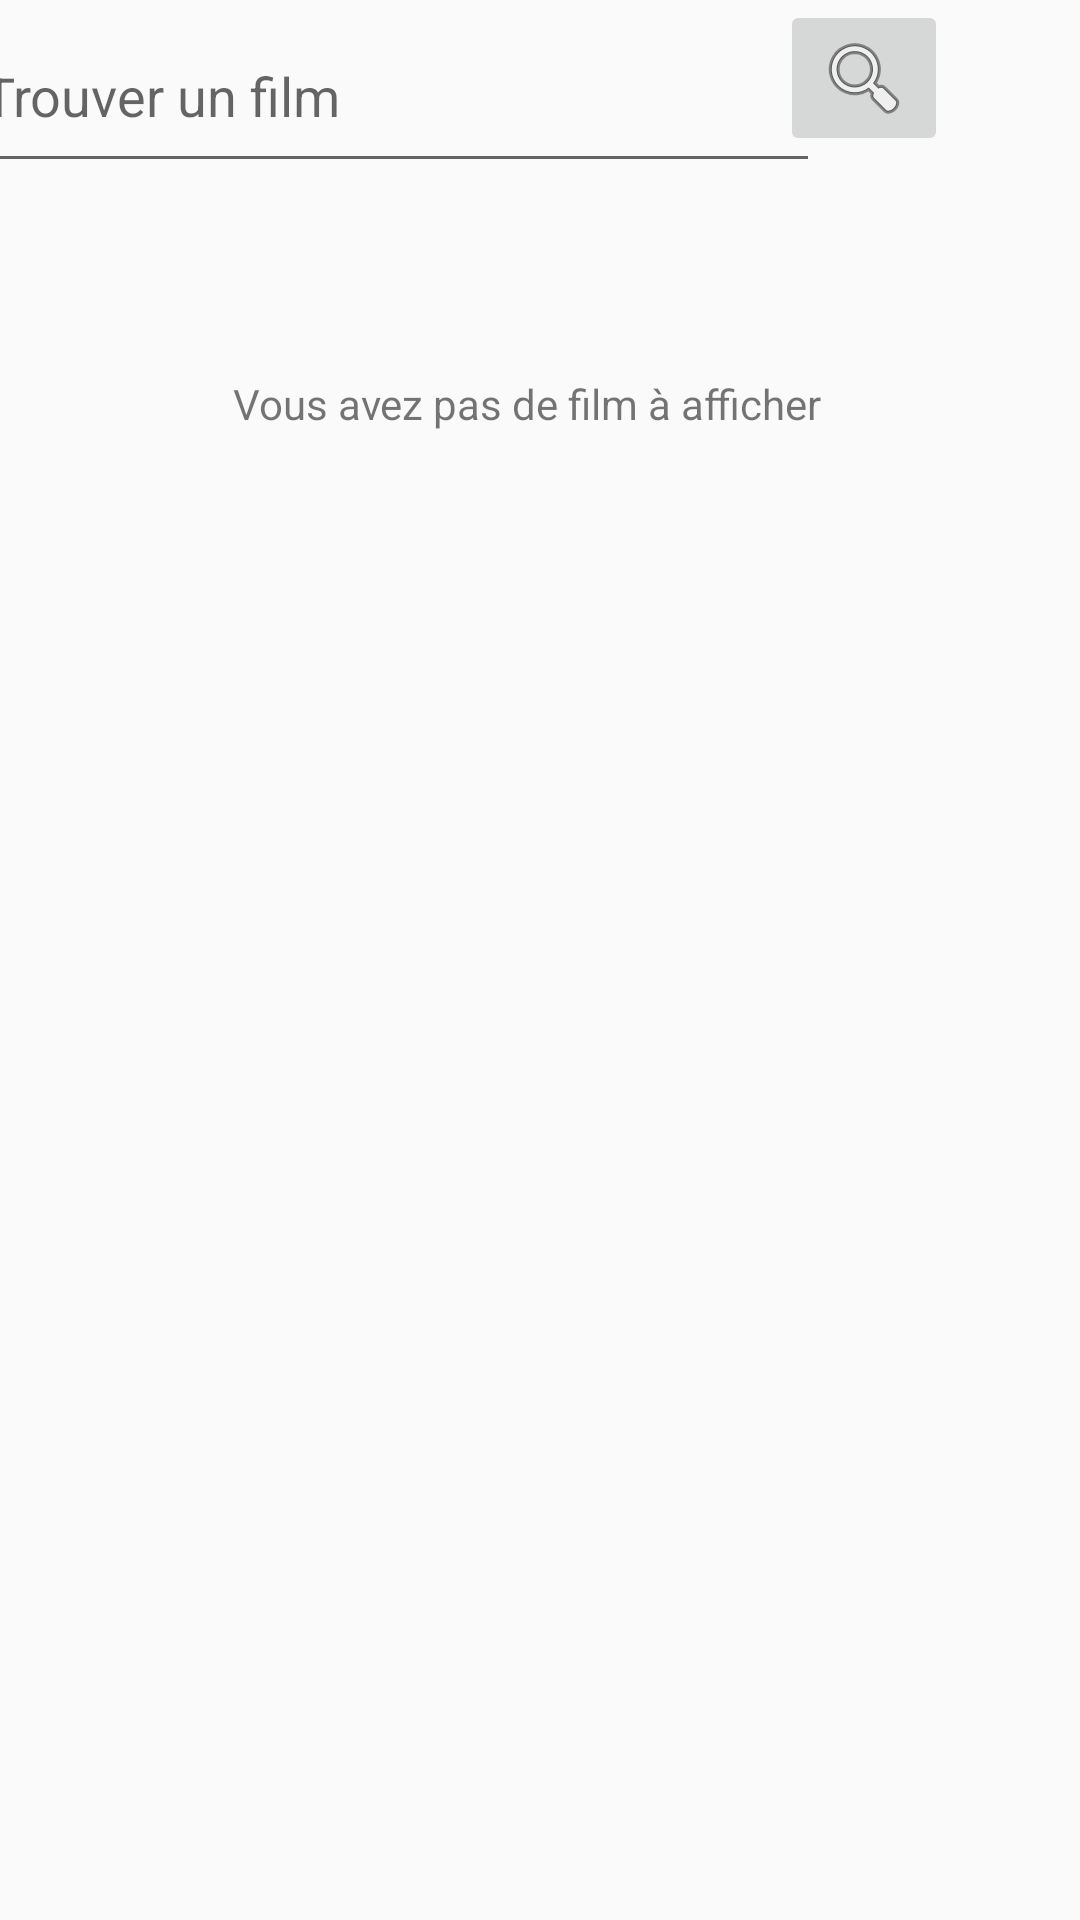

Icons on this 1080×1920 Android screen, each with the point to tap as (x=x, y=y):
search: (x=864, y=78)
